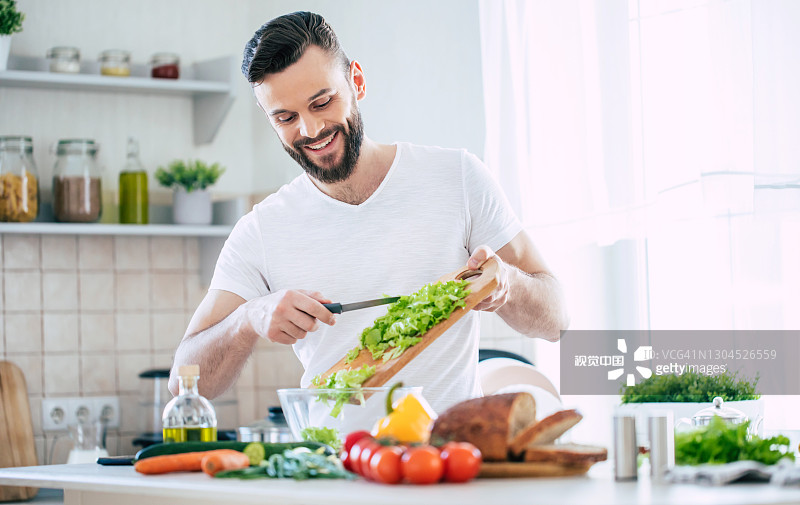no-phone: (234, 283, 346, 352), (458, 235, 518, 324)
